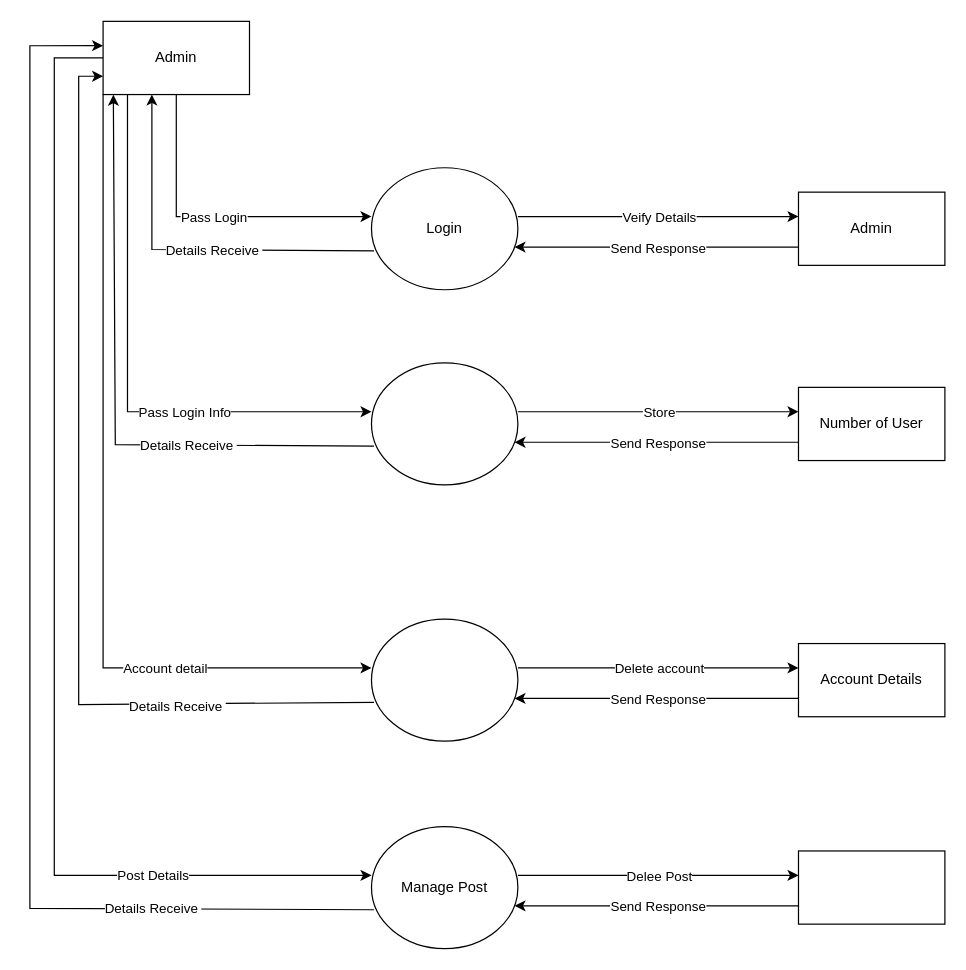
The diagram is 966 pixels wide and 970 high, and some of its shapes have lost their labels. The shapes that lost their labels are listed below. From the top down, each one's box as (x1, y1, x2, y2) in pixels, then its label:
(370, 362, 518, 485): Manage User
(370, 618, 518, 741): Manage Account
(797, 850, 945, 924): Post
